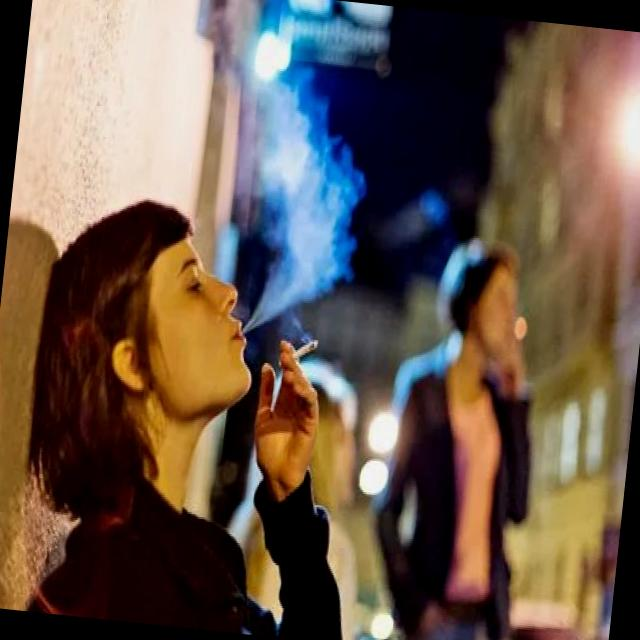cigarette: (270, 325, 323, 380)
